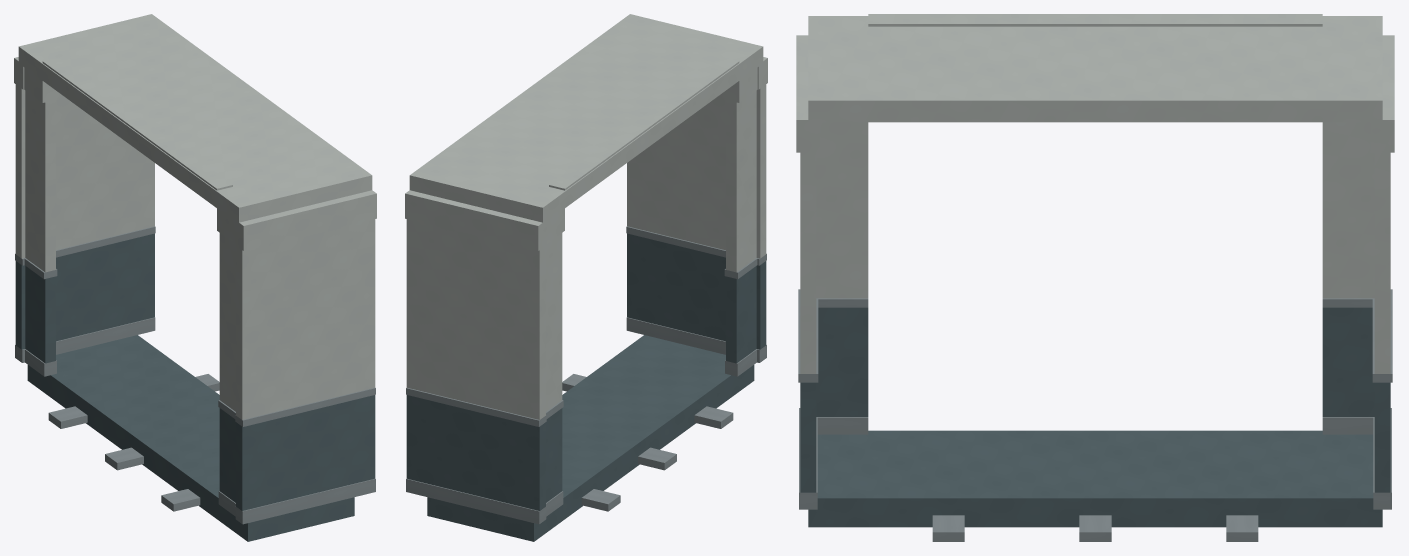
The model's file is AUTHORING_COMPONENTS_r001.glb.
The picture shows the model from 3 angles, left to right: view 1: azimuth 30°, elevation 25°; view 2: azimuth 150°, elevation 25°; view 3: azimuth 270°, elevation 25°; orthographic projection. The views are drawn at different scales.
Parts seen in each view (by area): view 1: ARRS_SourceJoinedCanopy, ARRS_SouthSide_Enamel, ARRS_ReceivingFloor, ARRS_NorthSide_Enamel, ARRS_SouthSide_Dado, ARRS_NorthSide_Dado, ARRS_StaffReturn0_Enamel, ARRS_SouthSide_Cove, ARRS_StaffPortalHeader, ARRS_StaffReturn1_Enamel, ARRS_StaffReturn0_Dado, ARRS_SouthSide_Toe (+9 smaller); view 2: ARRS_SourceJoinedCanopy, ARRS_NorthSide_Enamel, ARRS_ReceivingFloor, ARRS_SouthSide_Enamel, ARRS_NorthSide_Dado, ARRS_SouthSide_Dado, ARRS_StaffReturn1_Enamel, ARRS_NorthSide_Cove, ARRS_StaffPortalHeader, ARRS_StaffReturn0_Enamel, ARRS_StaffReturn1_Dado, ARRS_NorthSide_Toe (+9 smaller); view 3: ARRS_SourceJoinedCanopy, ARRS_ReceivingFloor, ARRS_StaffReturn0_Enamel, ARRS_StaffReturn1_Enamel, ARRS_StaffPortalHeader, ARRS_StaffReturn0_Dado, ARRS_StaffReturn1_Dado, ARRS_NorthSide_Enamel, ARRS_SouthSide_Enamel, ARRS_SouthSide_Cove, ARRS_NorthSide_Cove, ARRS_NorthSide_Dado (+6 smaller).
Boxes of the visible parts, bbox=[...] form: ARRS_SourceJoinedCanopy: bbox=[18, 14, 372, 223]; ARRS_SouthSide_Enamel: bbox=[236, 219, 375, 419]; ARRS_ReceivingFloor: bbox=[27, 335, 354, 541]; ARRS_NorthSide_Enamel: bbox=[15, 84, 154, 258]; ARRS_SouthSide_Dado: bbox=[236, 395, 375, 510]; ARRS_NorthSide_Dado: bbox=[15, 233, 154, 349]; ARRS_StaffReturn0_Enamel: bbox=[25, 90, 55, 272]; ARRS_SouthSide_Cove: bbox=[234, 190, 376, 250]; ARRS_StaffPortalHeader: bbox=[42, 57, 232, 190]; ARRS_StaffReturn1_Enamel: bbox=[219, 233, 235, 411]; ARRS_StaffReturn0_Dado: bbox=[25, 266, 55, 363]; ARRS_SouthSide_Toe: bbox=[235, 478, 375, 524]; ARRS_SourceJoinedCanopy: bbox=[409, 14, 763, 223]; ARRS_NorthSide_Enamel: bbox=[406, 219, 545, 419]; ARRS_ReceivingFloor: bbox=[427, 335, 754, 541]; ARRS_SouthSide_Enamel: bbox=[627, 84, 766, 258]; ARRS_NorthSide_Dado: bbox=[406, 395, 545, 510]; ARRS_SouthSide_Dado: bbox=[627, 233, 766, 349]; ARRS_StaffReturn1_Enamel: bbox=[726, 90, 756, 272]; ARRS_NorthSide_Cove: bbox=[405, 190, 547, 250]; ARRS_StaffPortalHeader: bbox=[549, 57, 739, 190]; ARRS_StaffReturn0_Enamel: bbox=[546, 233, 562, 411]; ARRS_StaffReturn1_Dado: bbox=[726, 266, 756, 363]; ARRS_NorthSide_Toe: bbox=[406, 478, 546, 524]; ARRS_SourceJoinedCanopy: bbox=[808, 16, 1382, 122]; ARRS_ReceivingFloor: bbox=[808, 430, 1382, 527]; ARRS_StaffReturn0_Enamel: bbox=[1322, 122, 1374, 298]; ARRS_StaffReturn1_Enamel: bbox=[816, 122, 868, 298]; ARRS_StaffPortalHeader: bbox=[868, 14, 1322, 26]; ARRS_StaffReturn0_Dado: bbox=[1322, 307, 1374, 416]; ARRS_StaffReturn1_Dado: bbox=[816, 307, 868, 416]; ARRS_NorthSide_Enamel: bbox=[1374, 152, 1390, 373]; ARRS_SouthSide_Enamel: bbox=[800, 152, 816, 373]; ARRS_SouthSide_Cove: bbox=[796, 35, 820, 152]; ARRS_NorthSide_Cove: bbox=[1370, 35, 1394, 152]; ARRS_NorthSide_Dado: bbox=[1374, 382, 1390, 492].
Bounding box in the file's own units: 1.8 × 3.64 × 4.48.
4 materials, 3 textured.
